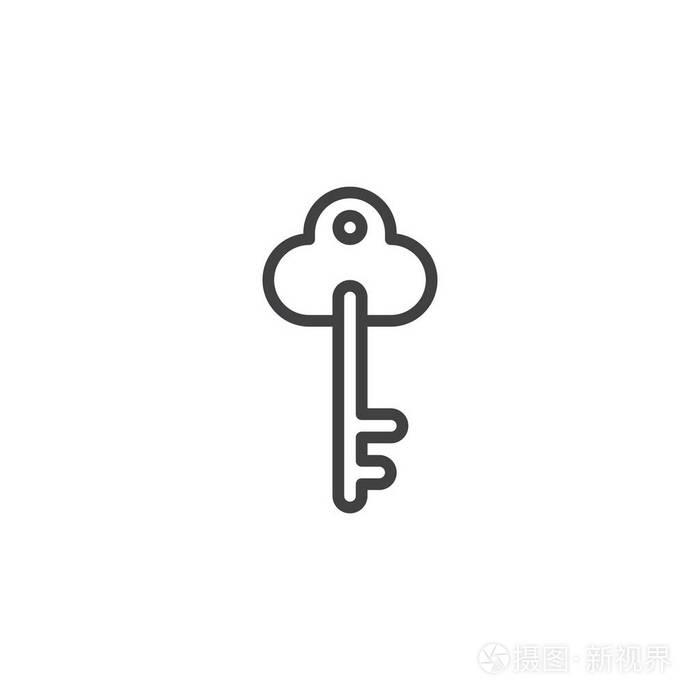key: (238, 171, 486, 523)
